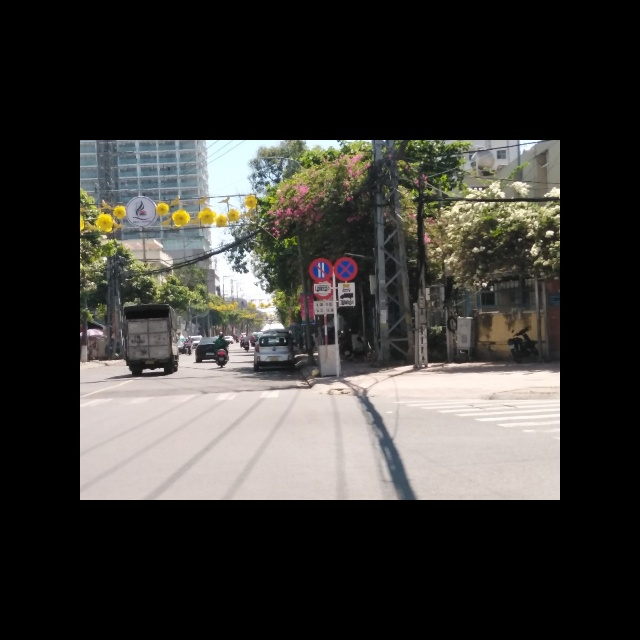Cấm dừng xe và đỗ xe: (334, 257, 358, 283)
Cấm đỗ xe ngày chẵn: (308, 256, 334, 283)
